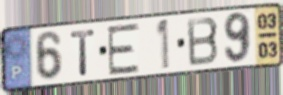1: (155, 16, 171, 72)
6: (34, 30, 64, 83)
9: (222, 10, 253, 66)
B: (185, 15, 220, 68)
E: (106, 21, 141, 77)
T: (69, 27, 97, 77)
